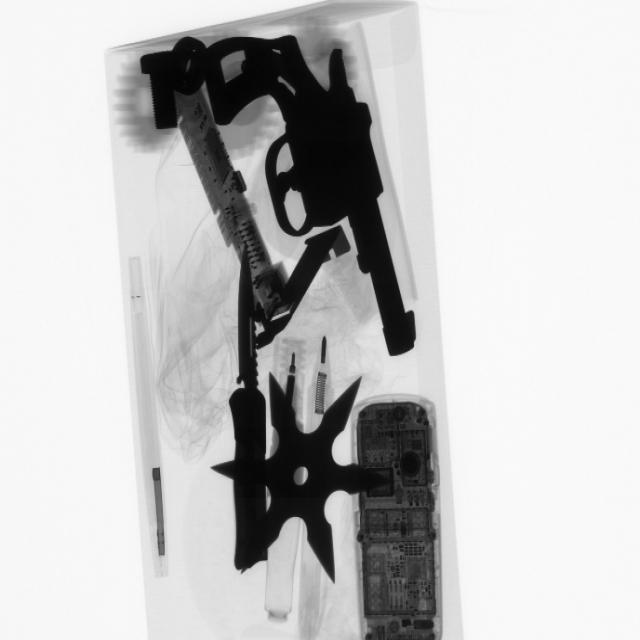GUN: (200, 24, 428, 351)
KNIFE: (217, 251, 277, 580)
SHURIKEN: (224, 367, 386, 585)
